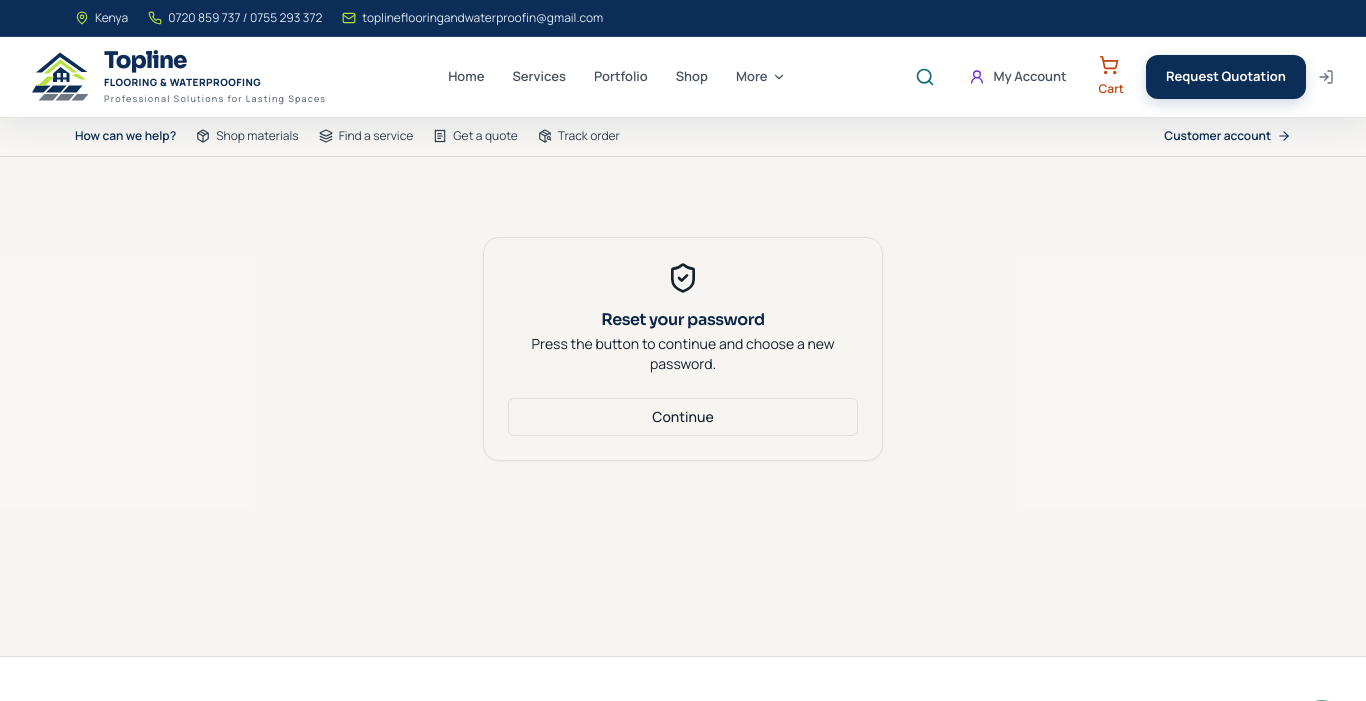
it: scanner-proof email links (token_hash) › a recovery token leads straight to choosing a new password
The image size is (1366, 701).
Click the button "Continue" at (683, 417), box [508,398,858,436]
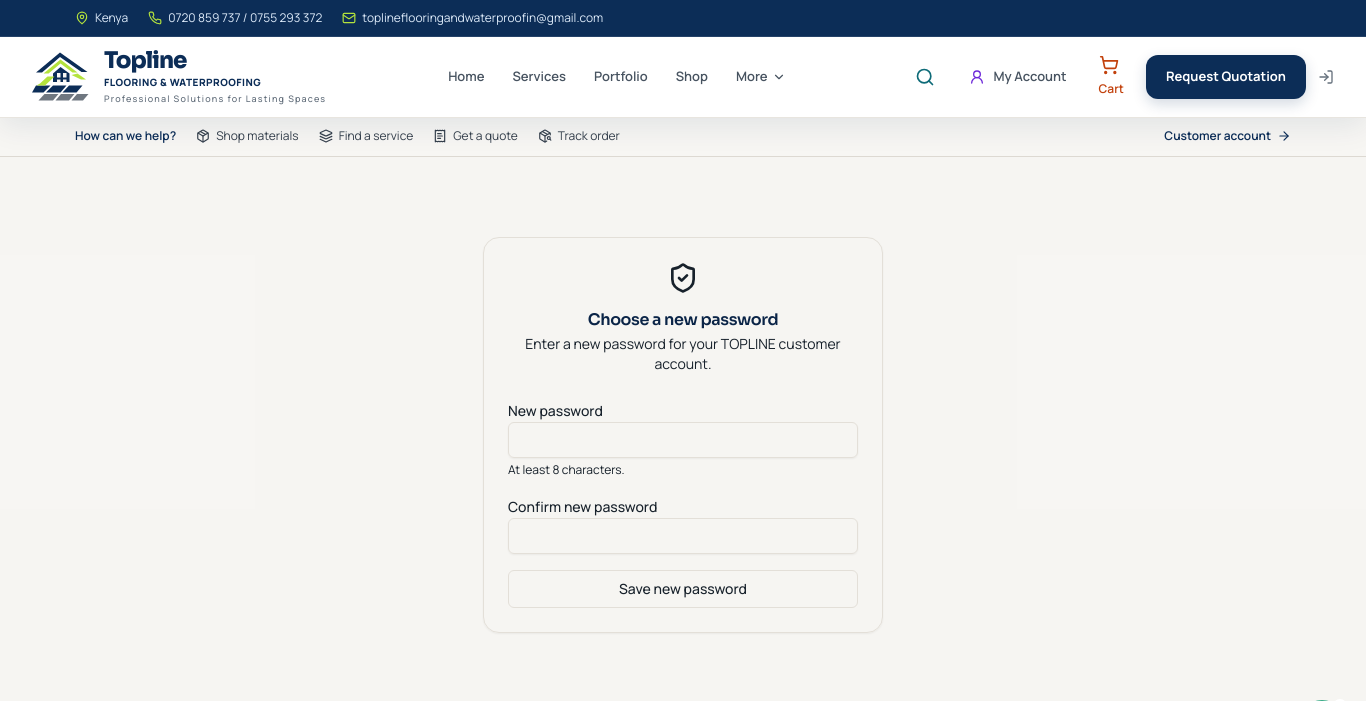
Check: the heading "Choose a new password" is shown, box [588,309,778,330]
